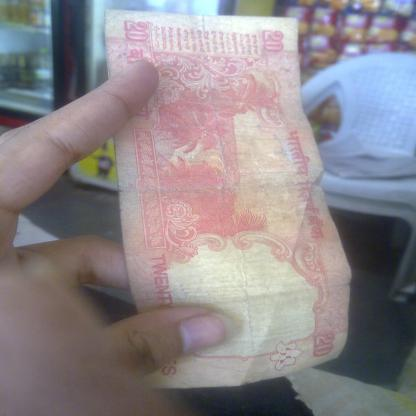Old20Back: (104, 9, 352, 388)
